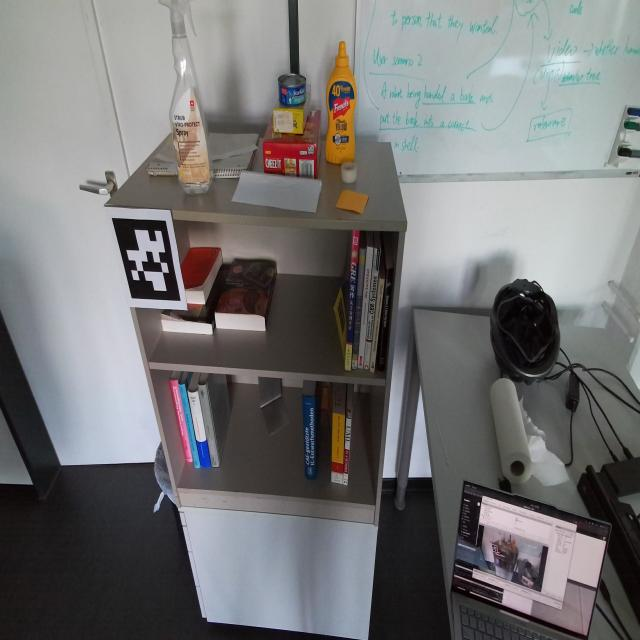Book Spine: (364, 246, 381, 370), (169, 380, 193, 463), (345, 231, 359, 371), (358, 246, 374, 368), (187, 388, 211, 469), (179, 385, 200, 470), (198, 384, 219, 468), (352, 249, 366, 368), (378, 266, 393, 373), (370, 277, 385, 373), (303, 395, 316, 482), (331, 412, 345, 484), (264, 262, 277, 330), (343, 407, 352, 485), (212, 316, 217, 335)
